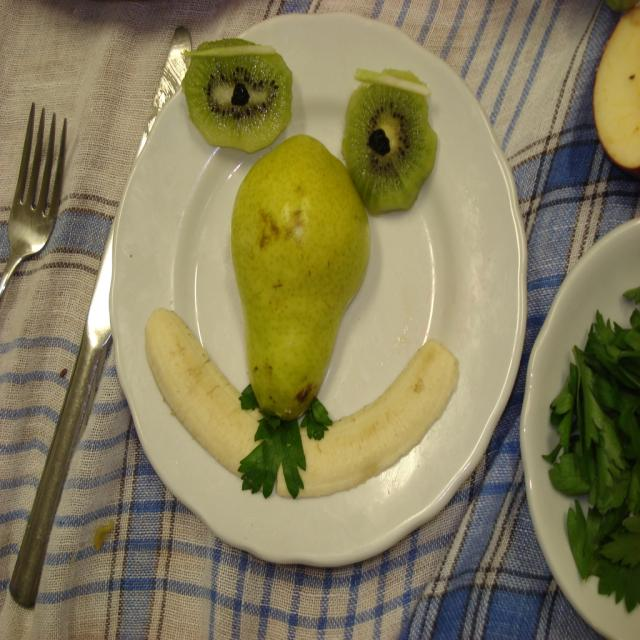banana: (143, 303, 457, 498)
kiwi: (182, 32, 294, 154), (345, 70, 438, 214)
pear: (232, 133, 372, 420)
